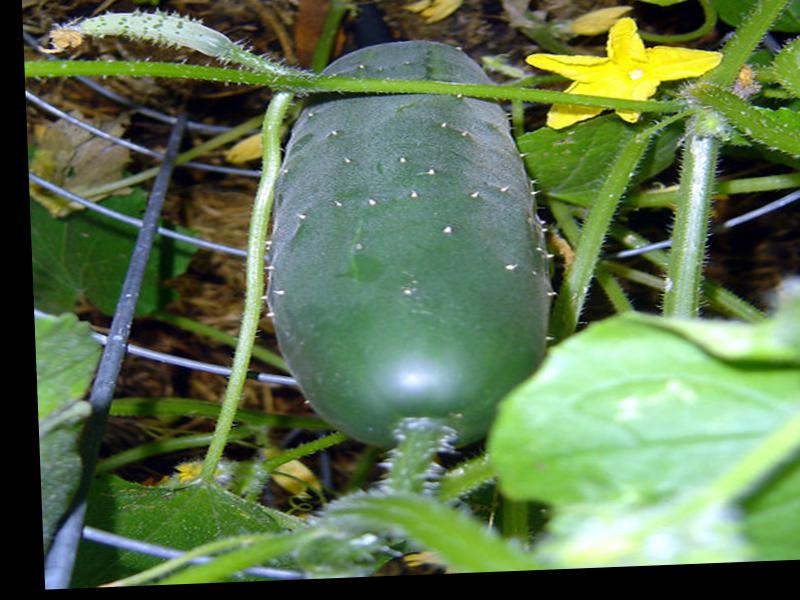Cucumber: (253, 37, 555, 455)
